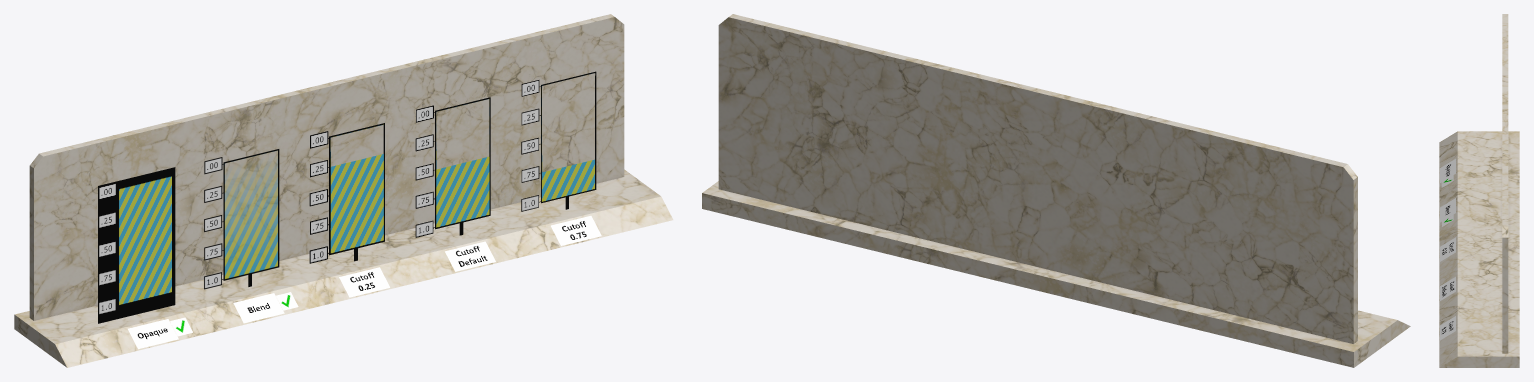
File: AlphaBlendModeTest.glb
The picture shows the model from 3 angles, left to right: view 1: azimuth 30°, elevation 25°; view 2: azimuth 150°, elevation 25°; view 3: azimuth 270°, elevation 25°; orthographic projection. The views are drawn at different scales.
Parts seen in each view (by area): view 1: Bed, TestOpaque, TestBlend, TestCutoff25, DecalOpaque, TestCutoffDefault, TestCutoff75; view 2: Bed; view 3: Bed, DecalOpaque.
Part boxes in pixels (bbox=[...]): Bed: bbox=[14, 14, 673, 367]; TestOpaque: bbox=[98, 167, 175, 323]; TestBlend: bbox=[204, 149, 279, 289]; TestCutoff25: bbox=[309, 123, 384, 263]; DecalOpaque: bbox=[128, 216, 601, 349]; TestCutoffDefault: bbox=[415, 97, 490, 237]; TestCutoff75: bbox=[521, 71, 596, 211]; Bed: bbox=[702, 14, 1410, 367]; Bed: bbox=[1439, 14, 1519, 367]; DecalOpaque: bbox=[1440, 158, 1455, 340].
Bounding box in the file's own units: 8.6 × 2.4 × 1.3.
Materials: 6 (6 with a texture image).
